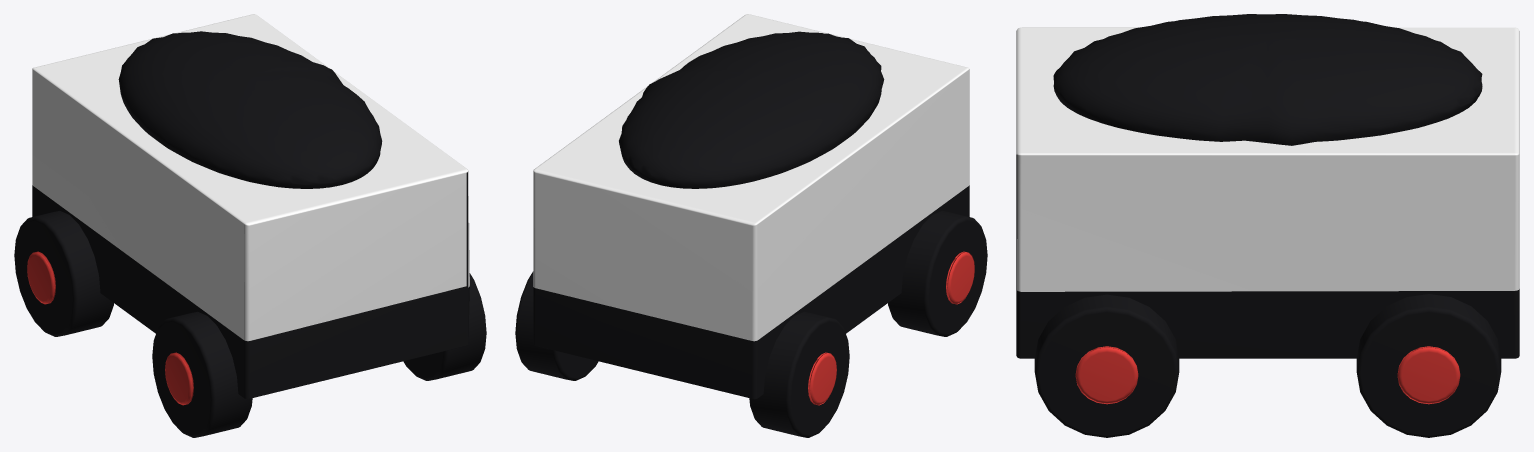
The model's file is tender.glb.
3 renders of one model, left to right at view 1: azimuth 30°, elevation 25°; view 2: azimuth 150°, elevation 25°; view 3: azimuth 270°, elevation 25°, orthographic. The views are drawn at different scales.
Visible parts, largest first — view 1: tender.001; view 2: tender.001; view 3: tender.001.
Boxes of the visible parts, x1=… form: tender.001: x1=14, y1=14, x2=486, y2=437; tender.001: x1=515, y1=14, x2=987, y2=437; tender.001: x1=1016, y1=14, x2=1519, y2=437.
Size of the model in its own units: 6.1 by 5.66 by 8.
